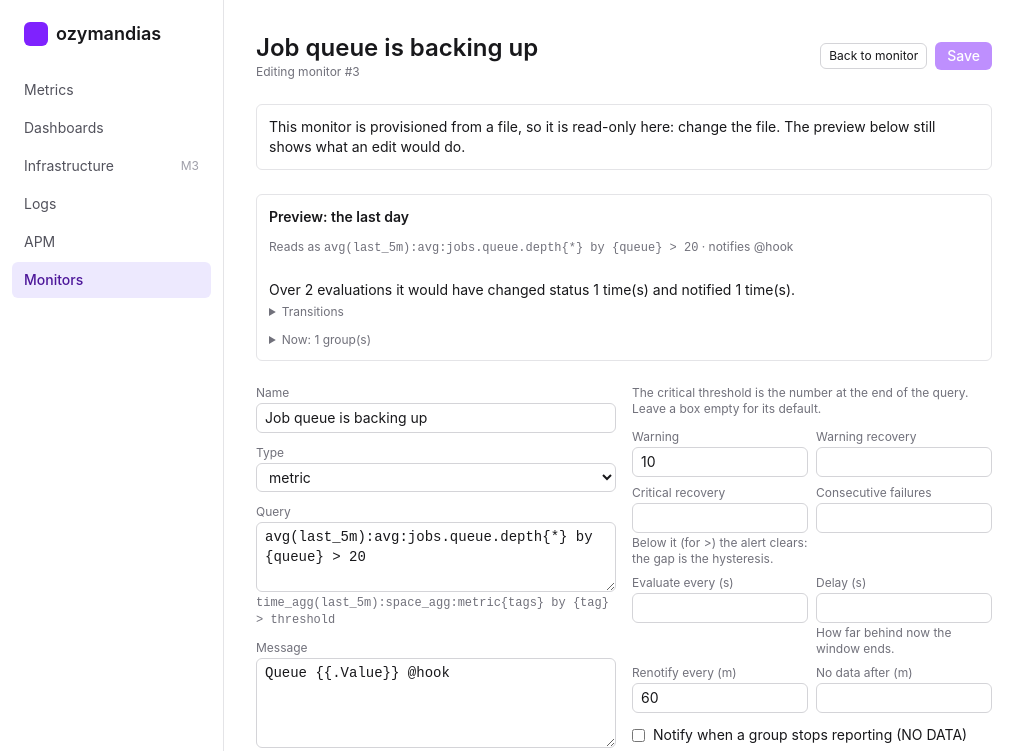
Scenario: MonitorEditor › opens a stored monitor with its values, and a provisioned one read-only
Expected: the field named "Renotify interval" holds "60", top-left (632, 683), bottom-right (808, 713)
Expected: the text "provisioned from a file, so it is read-only" is shown, top-left (269, 118), bottom-right (936, 155)
Still read-only once edited: the file is where it changes.
In the field labelled "Warning": (720, 462) top-left (632, 447), bottom-right (808, 477), type "1"
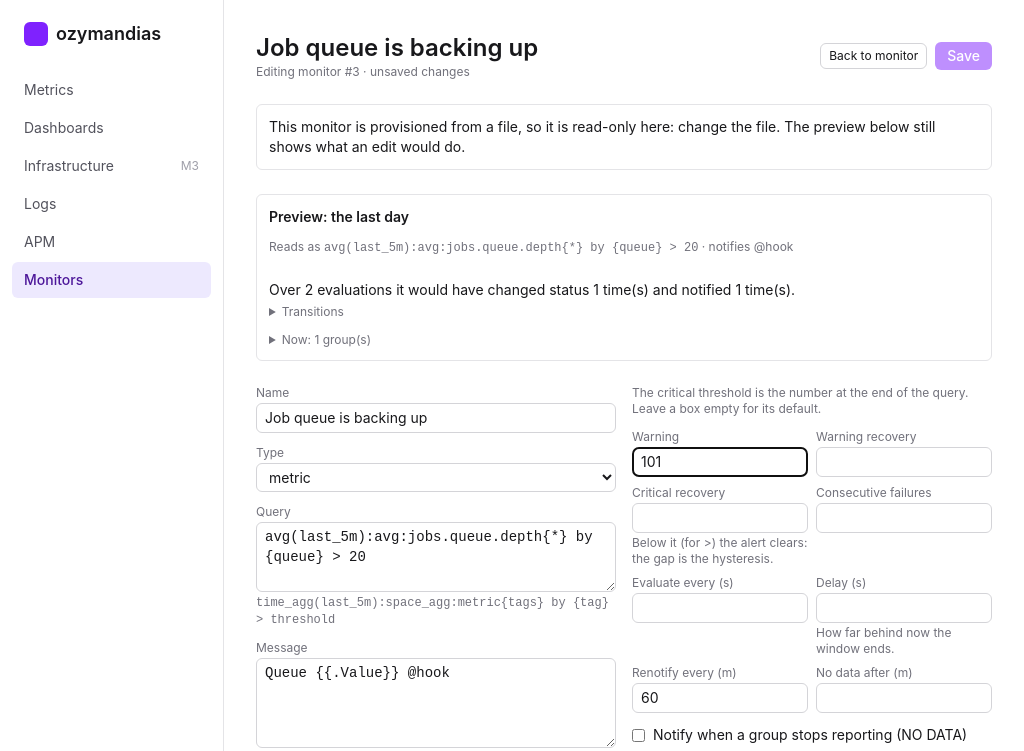
Expected: the button "Save" is disabled, top-left (935, 42), bottom-right (992, 70)
Expected: the text "Editing monitor #3 · unsaved changes" is shown, top-left (256, 64), bottom-right (470, 79)
